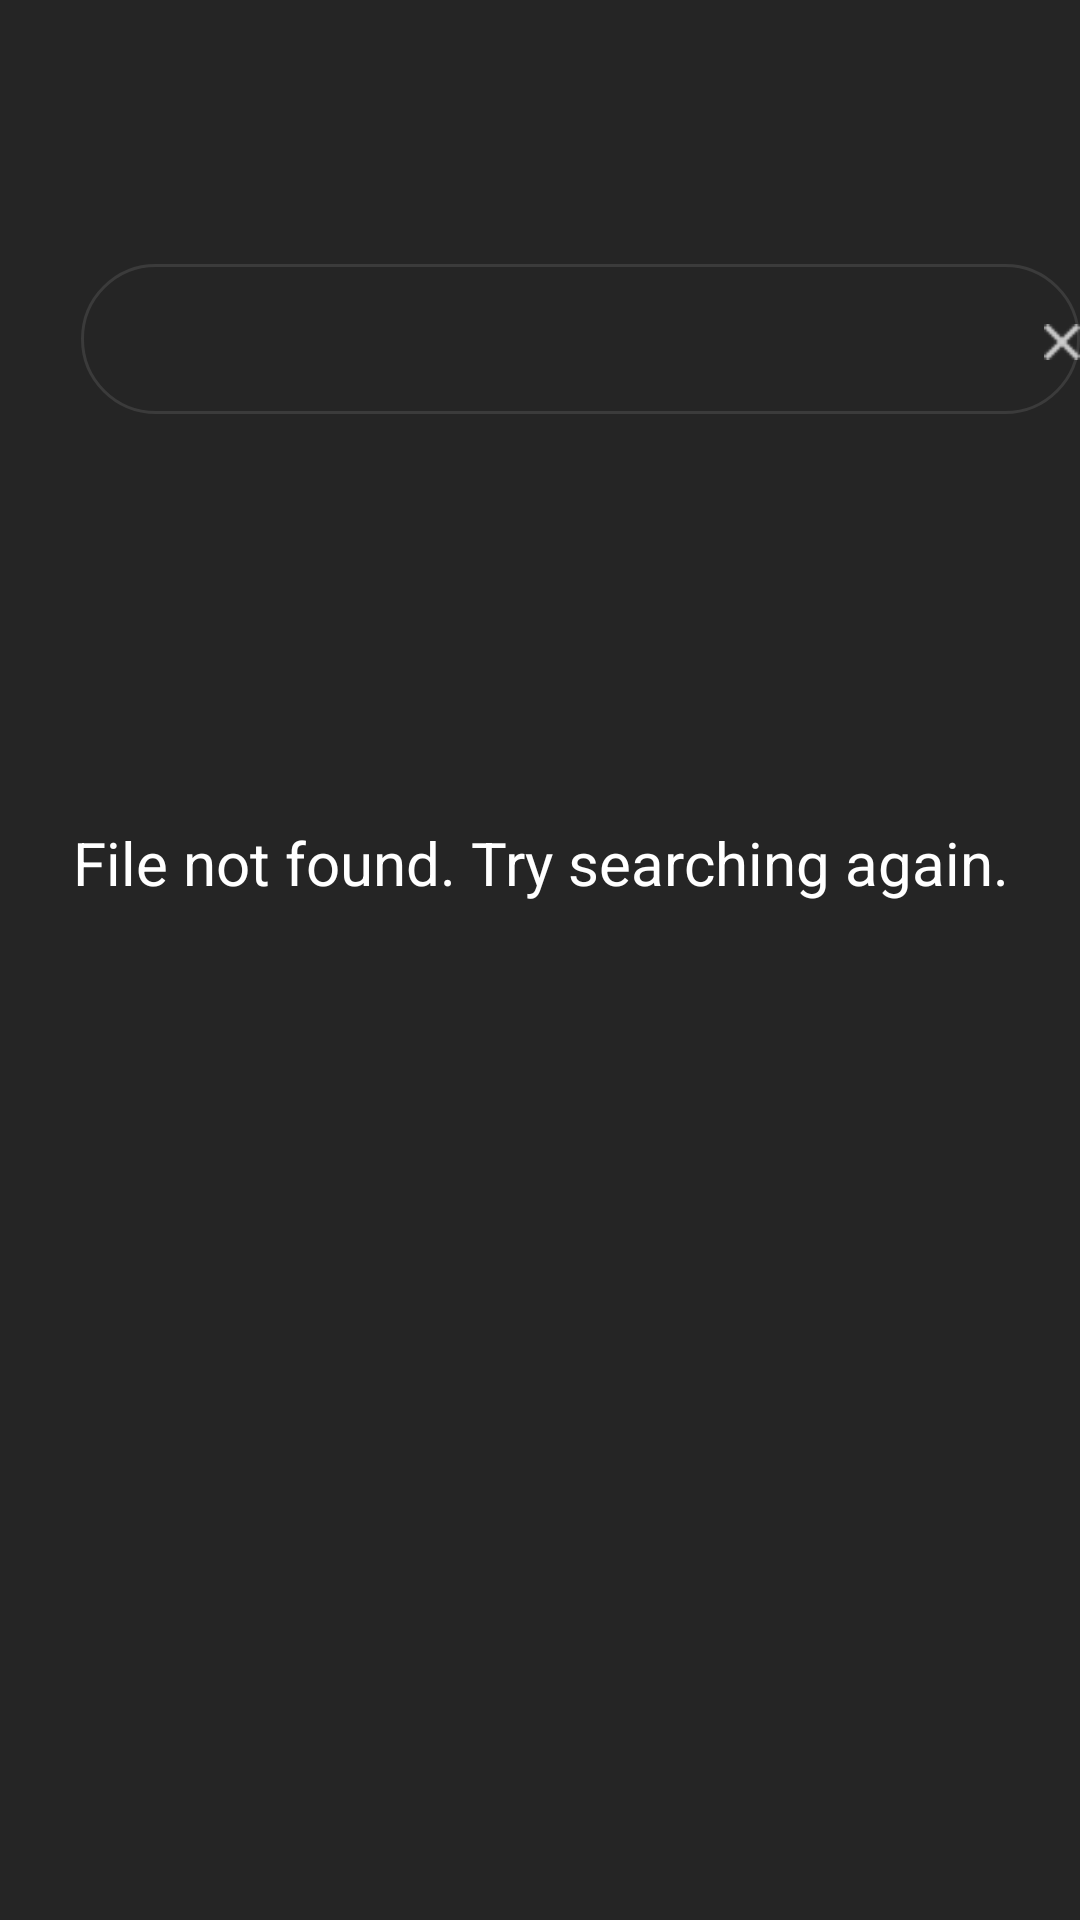

Named icons in this screenshot (1080px×1920px) and their centers, [x,y]:
multiply: [1062,342]
